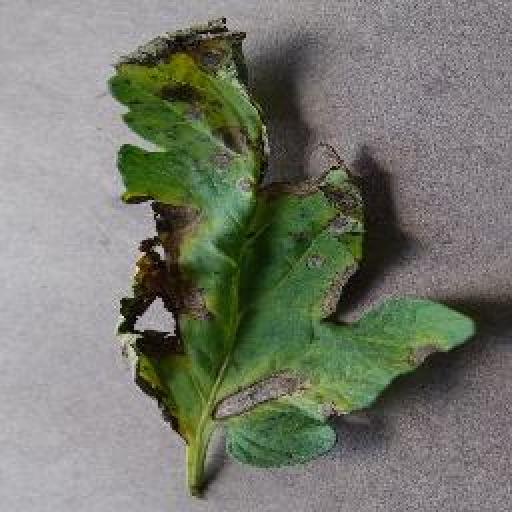Early Blight: (107, 17, 478, 468)
